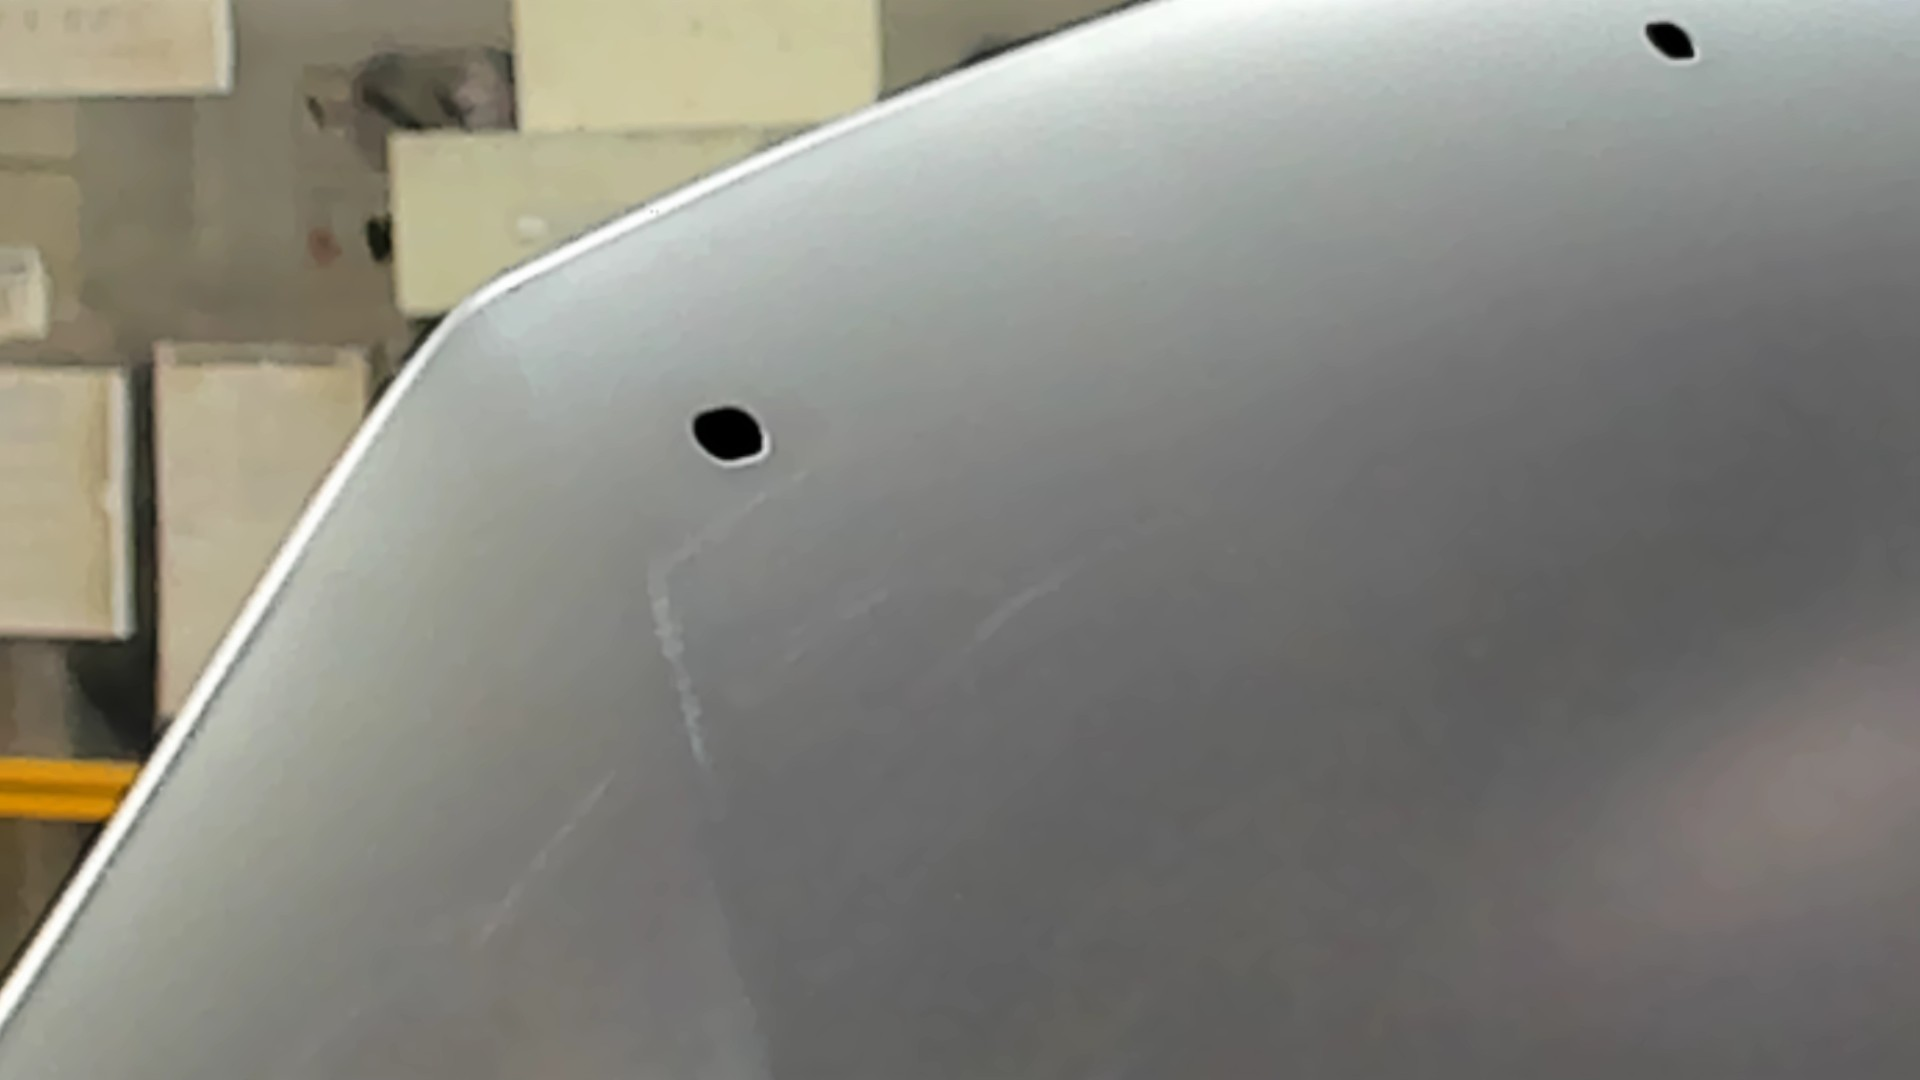amorfo: (686, 400, 774, 469), (1636, 11, 1704, 73)
